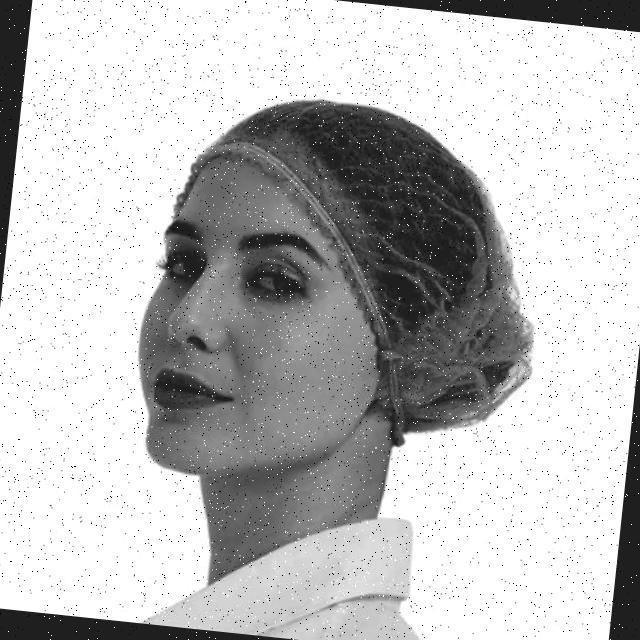gloves: (352, 99, 534, 427)
